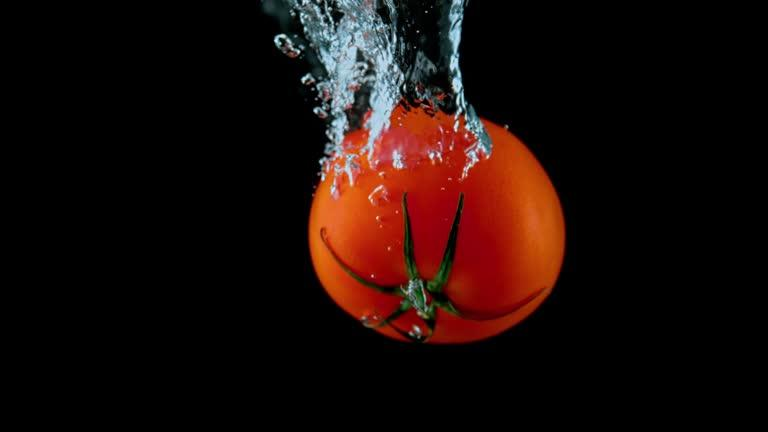Tomato: (308, 111, 566, 339)
